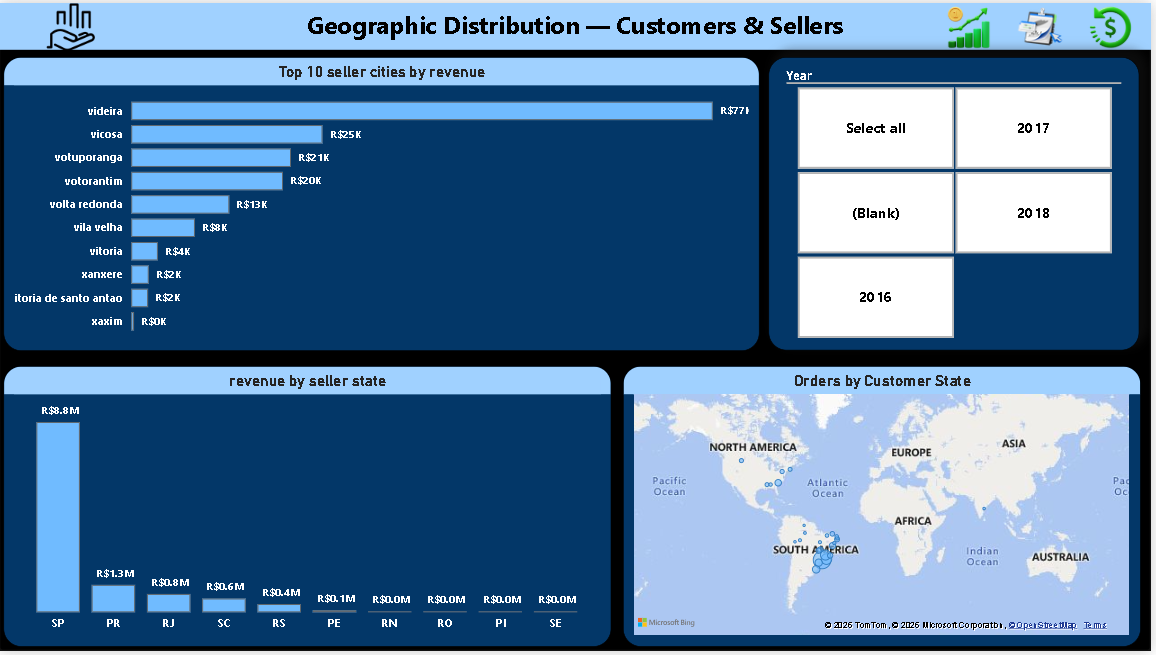

The dashboard page shown, as its layout file describes it:
{"tool":"powerbi","page":{"name":"Geographic Analysis","canvas":[1280,720],"ordinal":1},"visuals":[{"type":"textbox","box":[0,0,1280,51.7],"z":0},{"type":"map","title":"Orders by Customer State","fields":{"Category":["DimCustomers.customer_state"],"Size":["CountNonNull(DimOrders.order_id)"]},"box":[693.3,403.3,575,311.7],"z":1000},{"type":"clusteredBarChart","title":" Top 10 seller cities by revenue","fields":{"Category":["DimSellers.seller_city"],"Y":["Sum(FactOrderItems.price)"]},"box":[5,60,840,326.7],"z":2000},{"type":"clusteredColumnChart","title":"revenue by seller state","fields":{"Y":["Sum(FactOrderItems.price)"],"Category":["DimSellers.seller_state"]},"box":[5,403.3,675,311.7],"z":3000},{"type":"slicer","fields":{"Values":["DimDate.Year"]},"box":[855.7,60.4,412,326.1],"z":4000},{"type":"image","box":[1046.6,0,62,54.1],"z":5000},{"type":"image","box":[1121.4,0,70,54.1],"z":6000},{"type":"image","box":[1202.5,0,63.6,54.1],"z":7000},{"type":"image","box":[0,0,159.1,54.1],"z":8000}]}

Visuals, with their boxes in screenshot pixels (x1, y1, x2, y2), scaled from the page's 1280x720 canvas onto the 1156x655 screenshot:
textbox: bbox=[0, 0, 1155, 47]
"Orders by Customer State" map: bbox=[626, 367, 1145, 650]
" Top 10 seller cities by revenue" clusteredBarChart: bbox=[5, 55, 763, 352]
"revenue by seller state" clusteredColumnChart: bbox=[5, 367, 614, 650]
slicer - DimDate.Year: bbox=[773, 55, 1145, 352]
image: bbox=[945, 0, 1001, 49]
image: bbox=[1013, 0, 1076, 49]
image: bbox=[1086, 0, 1143, 49]
image: bbox=[0, 0, 144, 49]
